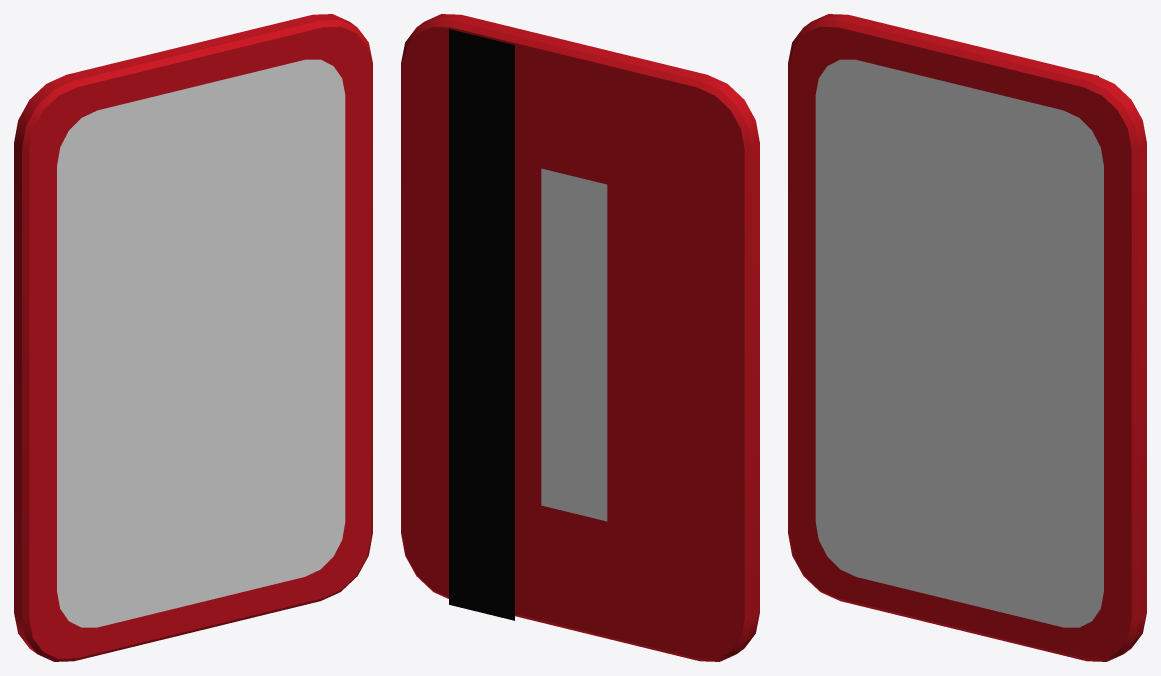
Rendered from Item_Keycard.fbx.
3 renders of one model, left to right at view 1: azimuth 30°, elevation 25°; view 2: azimuth 150°, elevation 25°; view 3: azimuth 330°, elevation 25°, orthographic.
Parts seen in each view (by area): view 1: Key_Card; view 2: Key_Card; view 3: Key_Card.
Part boxes in pixels (left/top/right/bottom): Key_Card: left=14, top=14, right=372, bottom=661; Key_Card: left=401, top=14, right=759, bottom=661; Key_Card: left=788, top=14, right=1146, bottom=661.
Bounding box in the file's own units: 20.16 × 31.89 × 1.64.
